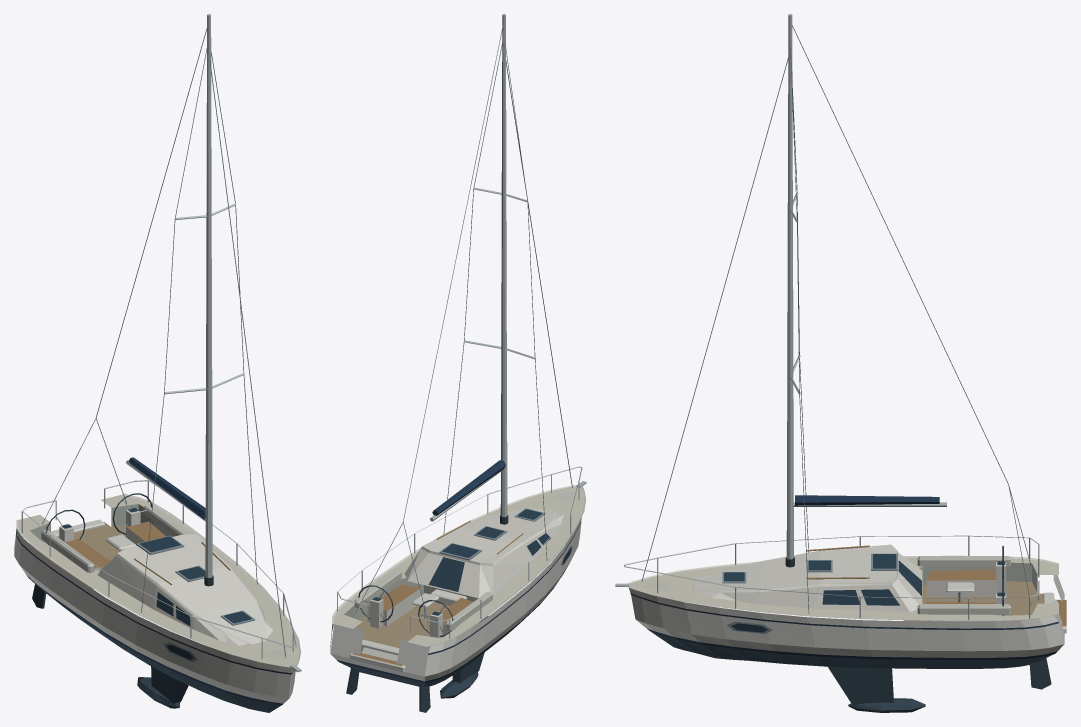
The model's file is kjp_dufour_310_gl_2014_dimfix_rudders.glb.
3 renders of one model, left to right at view 1: azimuth 30°, elevation 25°; view 2: azimuth 150°, elevation 25°; view 3: azimuth 270°, elevation 25°, orthographic. The views are drawn at different scales.
Parts seen in each view (by area): view 1: KJP_Dufour310GL; view 2: KJP_Dufour310GL; view 3: KJP_Dufour310GL.
Boxes of the visible parts, bbox=[...] form: KJP_Dufour310GL: bbox=[14, 14, 301, 712]; KJP_Dufour310GL: bbox=[330, 14, 586, 712]; KJP_Dufour310GL: bbox=[615, 14, 1066, 712].
Size of the model in its own units: 3.31 by 16.46 by 9.67.
